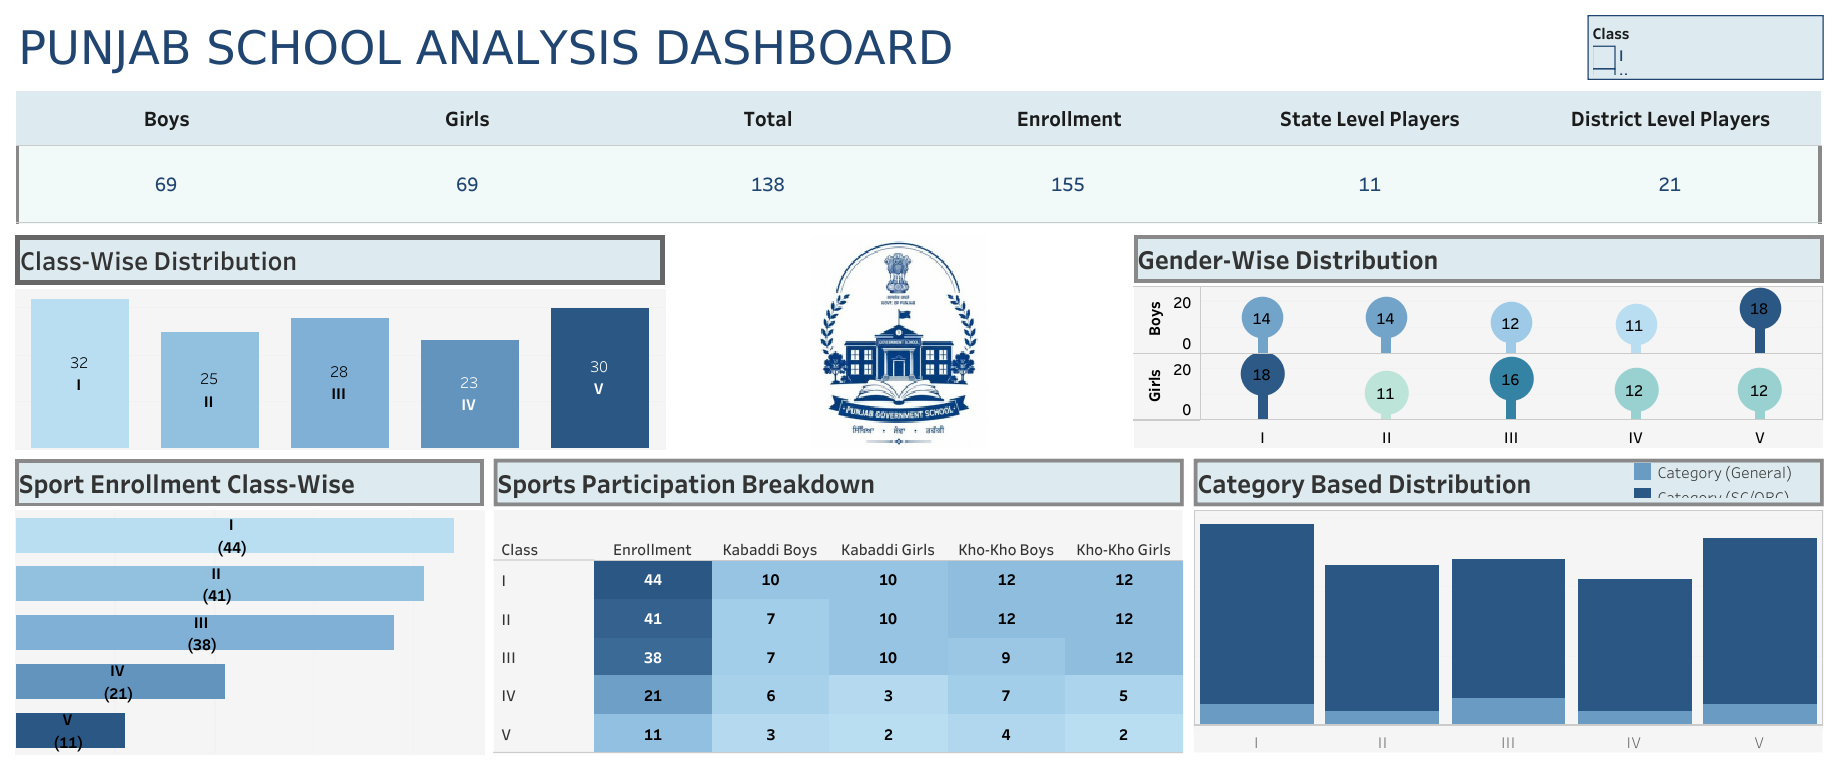

Layout of this report page (visuals, bound fields, positions):
{"tool":"tableau","page":{"name":"JUNIOR SCHOOL ANALYSTICS DASHBOARD","canvas":[1000,1000],"units":"permille","ordinal":0},"visuals":[{"type":"text","box":[5.1,9.4,855.7,98.6]},{"type":"filter","title":"Class-Wise Distribution","param":"[federated.1y4fqur1ypovgm13ag4yi1ffycvy].[none:Class:nk]","box":[860.8,9.4,134.2,98.6]},{"type":"worksheet","title":"KPI","mark":"Automatic","box":[5.1,108,989.9,136.2]},{"type":"worksheet","title":"Class-Wise Distribution","mark":"Automatic","rows":["Total"],"cols":["Class"],"box":[5.1,244.1,359.5,347.4]},{"type":"image","param":"Image/school_image_blue.jpeg","box":[364.6,244.1,249.4,347.4]},{"type":"worksheet","title":"Gender-Wise Distribution","mark":"Automatic","rows":["Boys","Boys","Girls","Girls"],"cols":["Class (copy)_0799683606806530"],"box":[613.9,244.1,381,347.4]},{"type":"worksheet","title":"Sport Enrollment Class-Wise","mark":"Bar","rows":["Class"],"cols":["Calculation_0173511477239810"],"box":[5.1,591.5,260.8,399.1]},{"type":"worksheet","title":"Sports Participation Breakdown","mark":"Square","rows":["Class"],"box":[265.8,591.5,381,399.1]},{"type":"worksheet","title":"Category Based Distribution","mark":"Bar","rows":["Category (SC/OBC)","Category (General)"],"cols":["Class"],"box":[646.8,591.5,348.1,399.1]},{"type":"legend","title":"Category Based Distribution","param":"[federated.1y4fqur1ypovgm13ag4yi1ffycvy].[:Measure Names]","box":[886.7,596.2,109.5,50.5]}]}

Visuals, with their boxes on the dashboard's canvas, which has no fixed pixel size, in thousandths of its width and height (x1, y1, x2, y2). These are canvas units, not pixel positions in the 1838x768 screenshot, which may show the page scaled, cropped or inside an application window:
text: bbox=(5, 9, 861, 108)
"Class-Wise Distribution" filter: bbox=(861, 9, 995, 108)
"KPI" worksheet: bbox=(5, 108, 995, 244)
"Class-Wise Distribution" worksheet: bbox=(5, 244, 365, 592)
image: bbox=(365, 244, 614, 592)
"Gender-Wise Distribution" worksheet: bbox=(614, 244, 995, 592)
"Sport Enrollment Class-Wise" worksheet (Bar marks): bbox=(5, 592, 266, 991)
"Sports Participation Breakdown" worksheet (Square marks): bbox=(266, 592, 647, 991)
"Category Based Distribution" worksheet (Bar marks): bbox=(647, 592, 995, 991)
"Category Based Distribution" legend: bbox=(887, 596, 996, 647)
